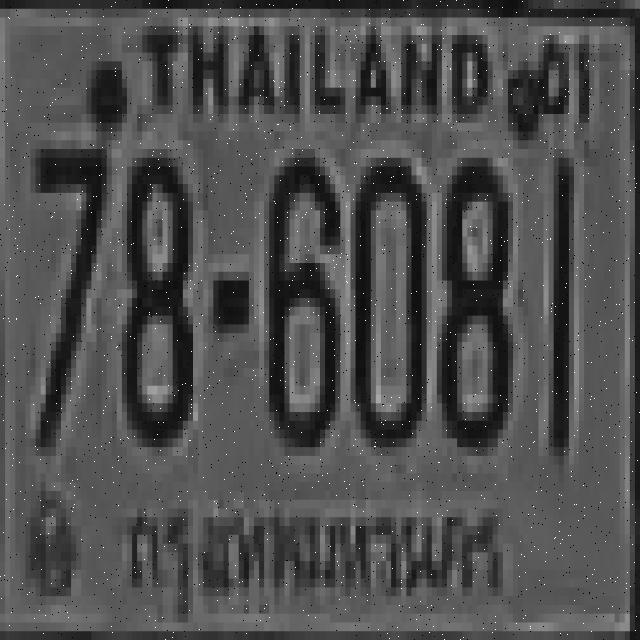0: (351, 148, 422, 438)
1: (543, 154, 569, 452), (548, 154, 568, 452)
6: (264, 148, 335, 438)
7: (30, 140, 101, 447), (30, 140, 101, 386)
8: (437, 148, 508, 438), (120, 144, 190, 434)
Bangkok: (119, 476, 512, 630)
